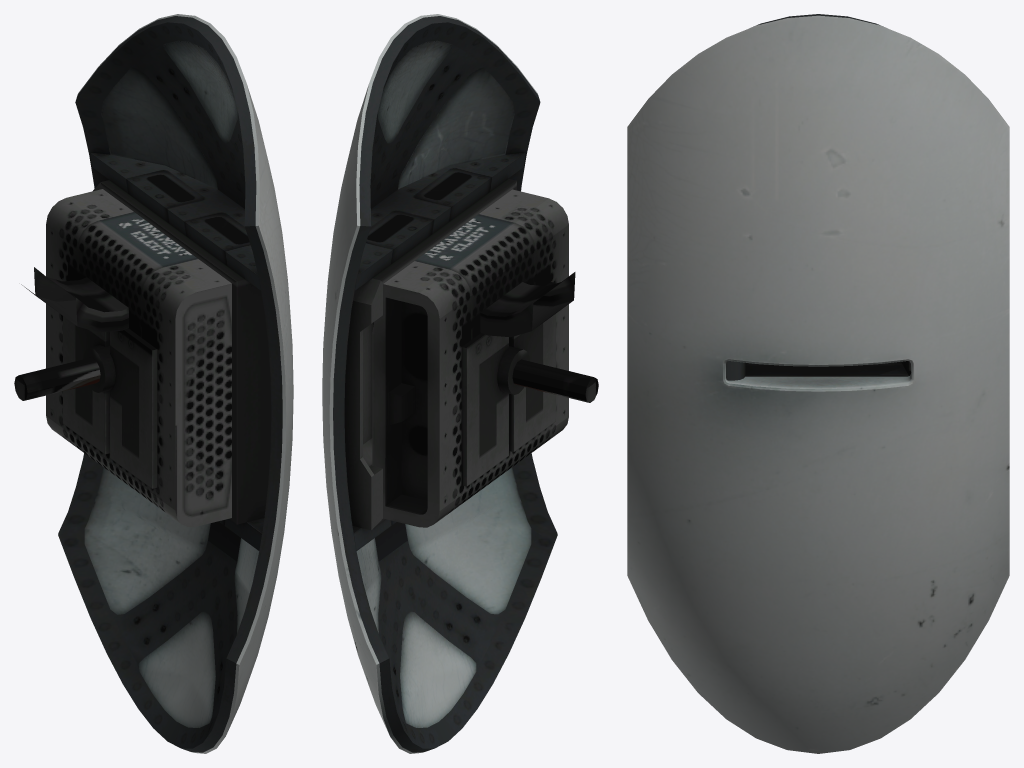
Rendered from portal_turret_wing_right_assembled.obj.
The picture shows the model from 3 angles, left to right: view 1: azimuth 30°, elevation 25°; view 2: azimuth 150°, elevation 25°; view 3: azimuth 270°, elevation 25°; orthographic projection. The views are drawn at different scales.
Parts seen in each view (by area): view 1: portal_turret_wing_right; view 2: portal_turret_wing_right; view 3: portal_turret_wing_right.
Boxes of the visible parts, x1,y1,x2,y2 form: portal_turret_wing_right: [14, 14, 293, 753]; portal_turret_wing_right: [322, 14, 598, 753]; portal_turret_wing_right: [627, 14, 1009, 753].
Bounding box in the file's own units: 0.2933 × 0.8564 × 0.3932.
Materials: 3 (3 with a texture image).
